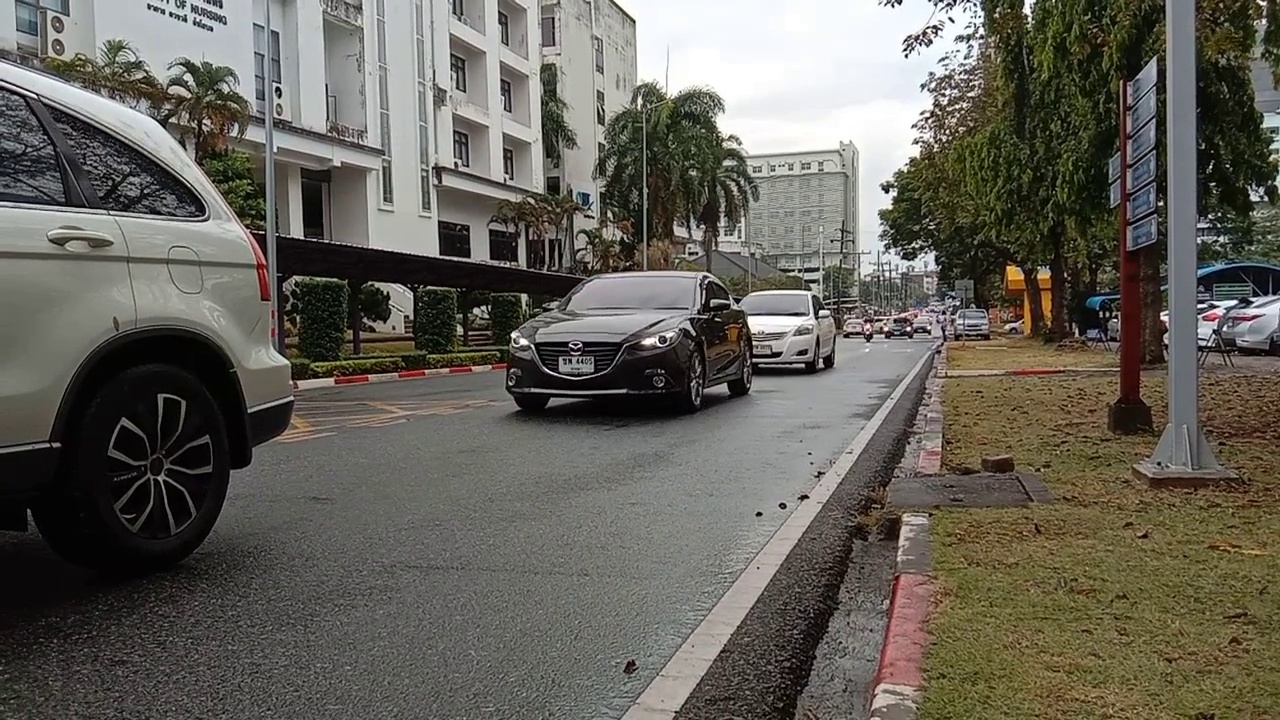License Plate: (558, 354, 596, 372)
